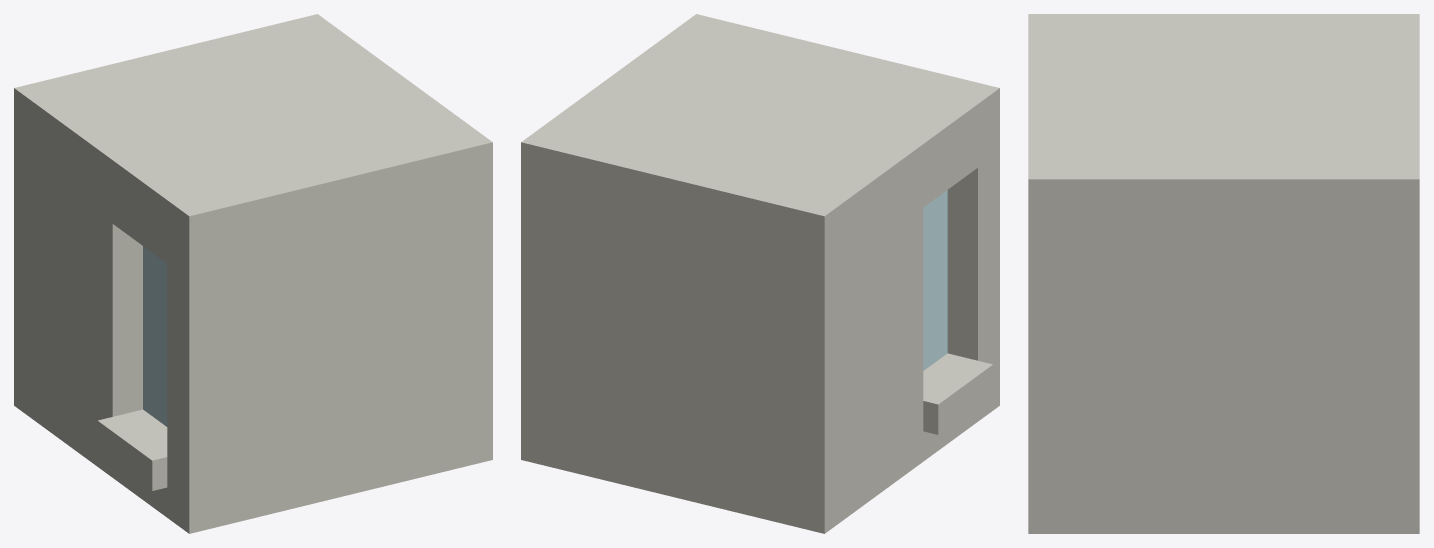
Rendered from Building Story 36.fbx.
3 views of the same model, side by side, from view 1: azimuth 30°, elevation 25°; view 2: azimuth 150°, elevation 25°; view 3: azimuth 270°, elevation 25° (orthographic). The views are drawn at different scales.
Parts seen in each view (by area): view 1: Building Story 36; view 2: Building Story 36; view 3: Building Story 36.
Boxes of the visible parts, x1,y1,x2,y2 form: Building Story 36: (14,14,492,533); Building Story 36: (521,14,999,533); Building Story 36: (1028,14,1419,533).
Size of the model in its own units: 1.05 by 1 by 1.
